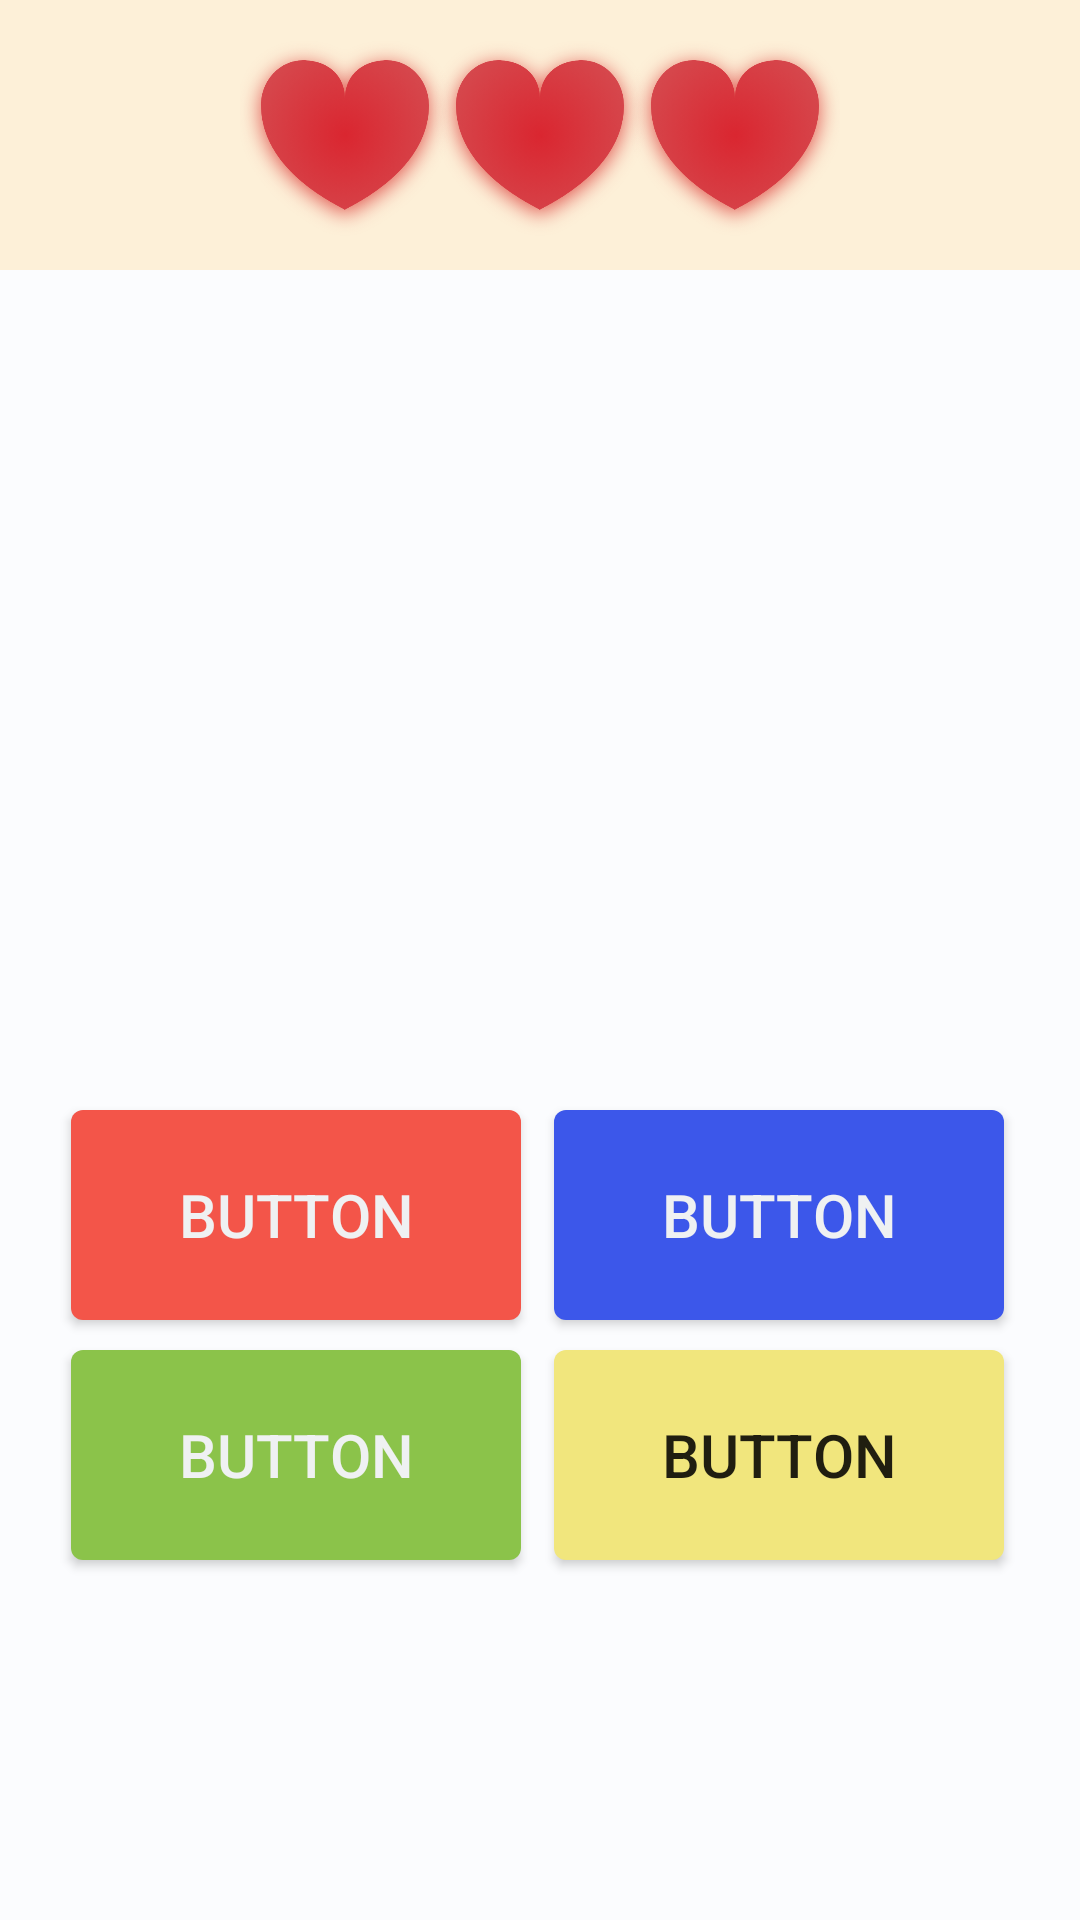

Named icons in this screenshot (1080×1920) and their bounding boxes, [left=x1, top=y1, right=x2, bottom=y2]:
heart up: [left=251, top=55, right=442, bottom=221], [left=442, top=55, right=637, bottom=221], [left=637, top=55, right=829, bottom=221]
